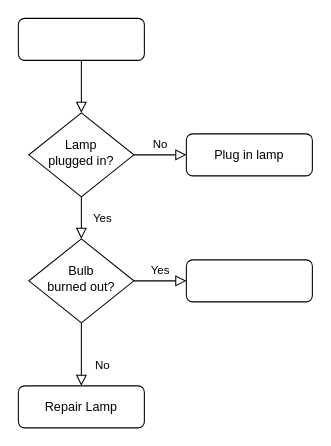
This 331x446 diagram has some shape labels left out. Each missing label, with the box of its shape:
Home page: (17, 17, 144, 60)
Replace Bulb: (185, 259, 312, 302)
